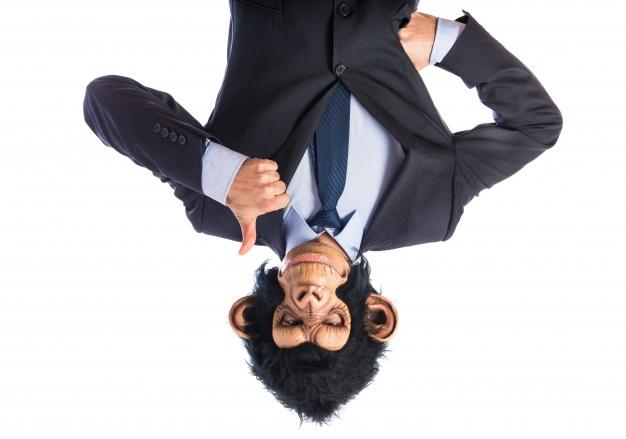thumbsdown: (238, 158, 290, 257)
